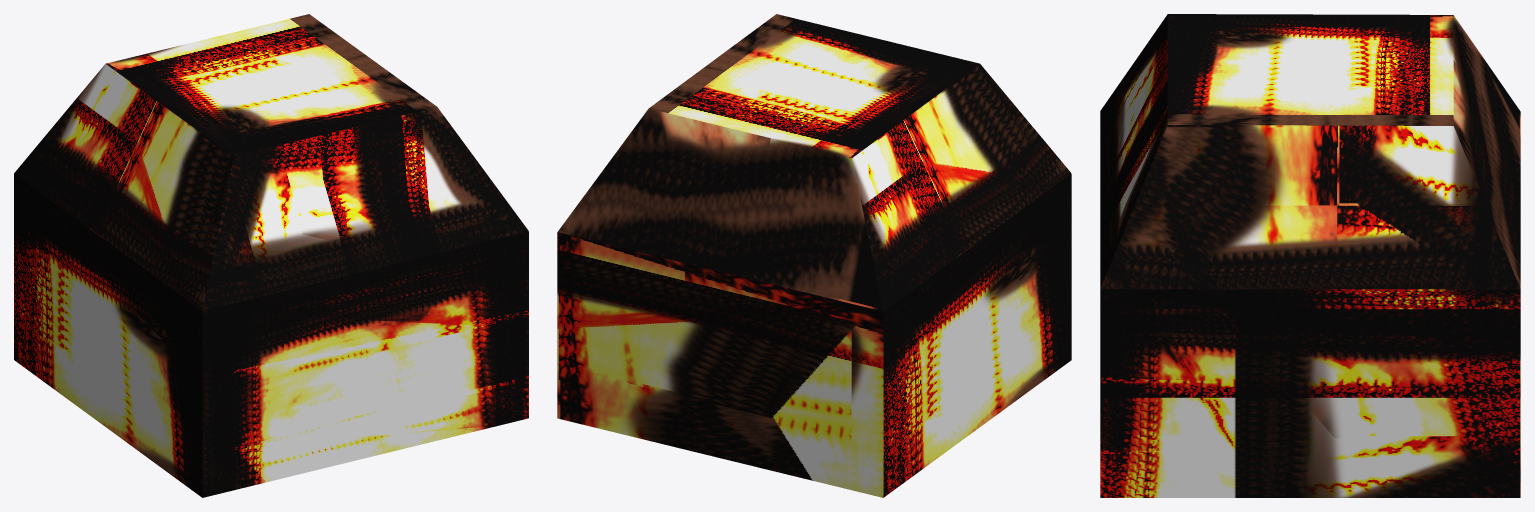
Rendered from treasure_chest.glb.
3 views of the same model, side by side, from view 1: azimuth 30°, elevation 25°; view 2: azimuth 150°, elevation 25°; view 3: azimuth 270°, elevation 25° (orthographic). The views are drawn at different scales.
Parts seen in each view (by area): view 1: Cube, Cube.001; view 2: Cube, Cube.001; view 3: Cube.001, Cube.
Boxes of the visible parts, bbox=[...] form: Cube: bbox=[14, 173, 528, 497]; Cube.001: bbox=[14, 14, 528, 310]; Cube: bbox=[557, 174, 1071, 497]; Cube.001: bbox=[558, 14, 1071, 311]; Cube.001: bbox=[1100, 14, 1520, 289]; Cube: bbox=[1100, 289, 1520, 497].
Size of the model in its own units: 1 by 0.8909 by 1.
1 material, 1 textured.
